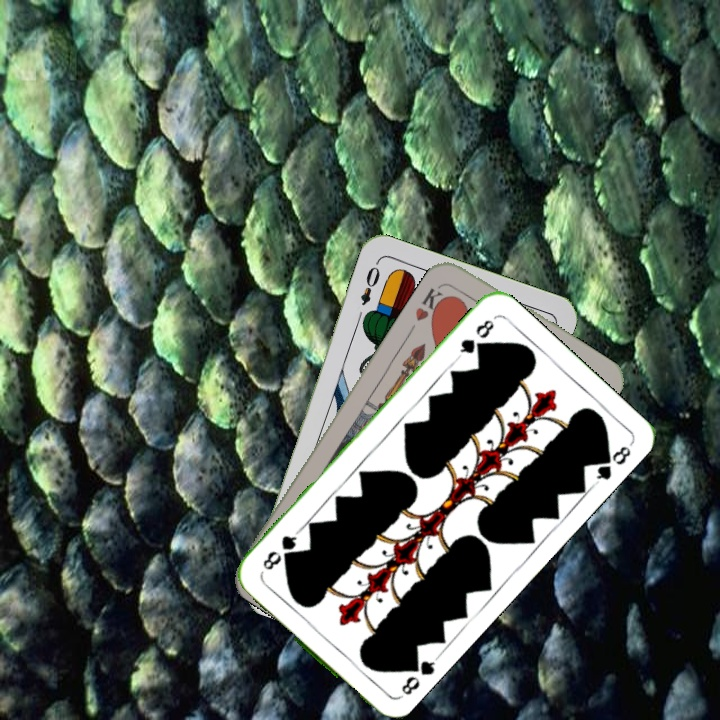EO: (356, 262, 383, 308)
G8: (394, 653, 440, 702), (453, 315, 497, 361)
HK: (411, 279, 451, 325)
